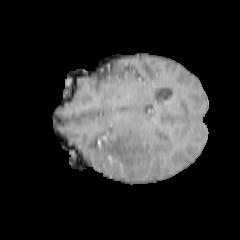glioma: (87, 122, 174, 180)
